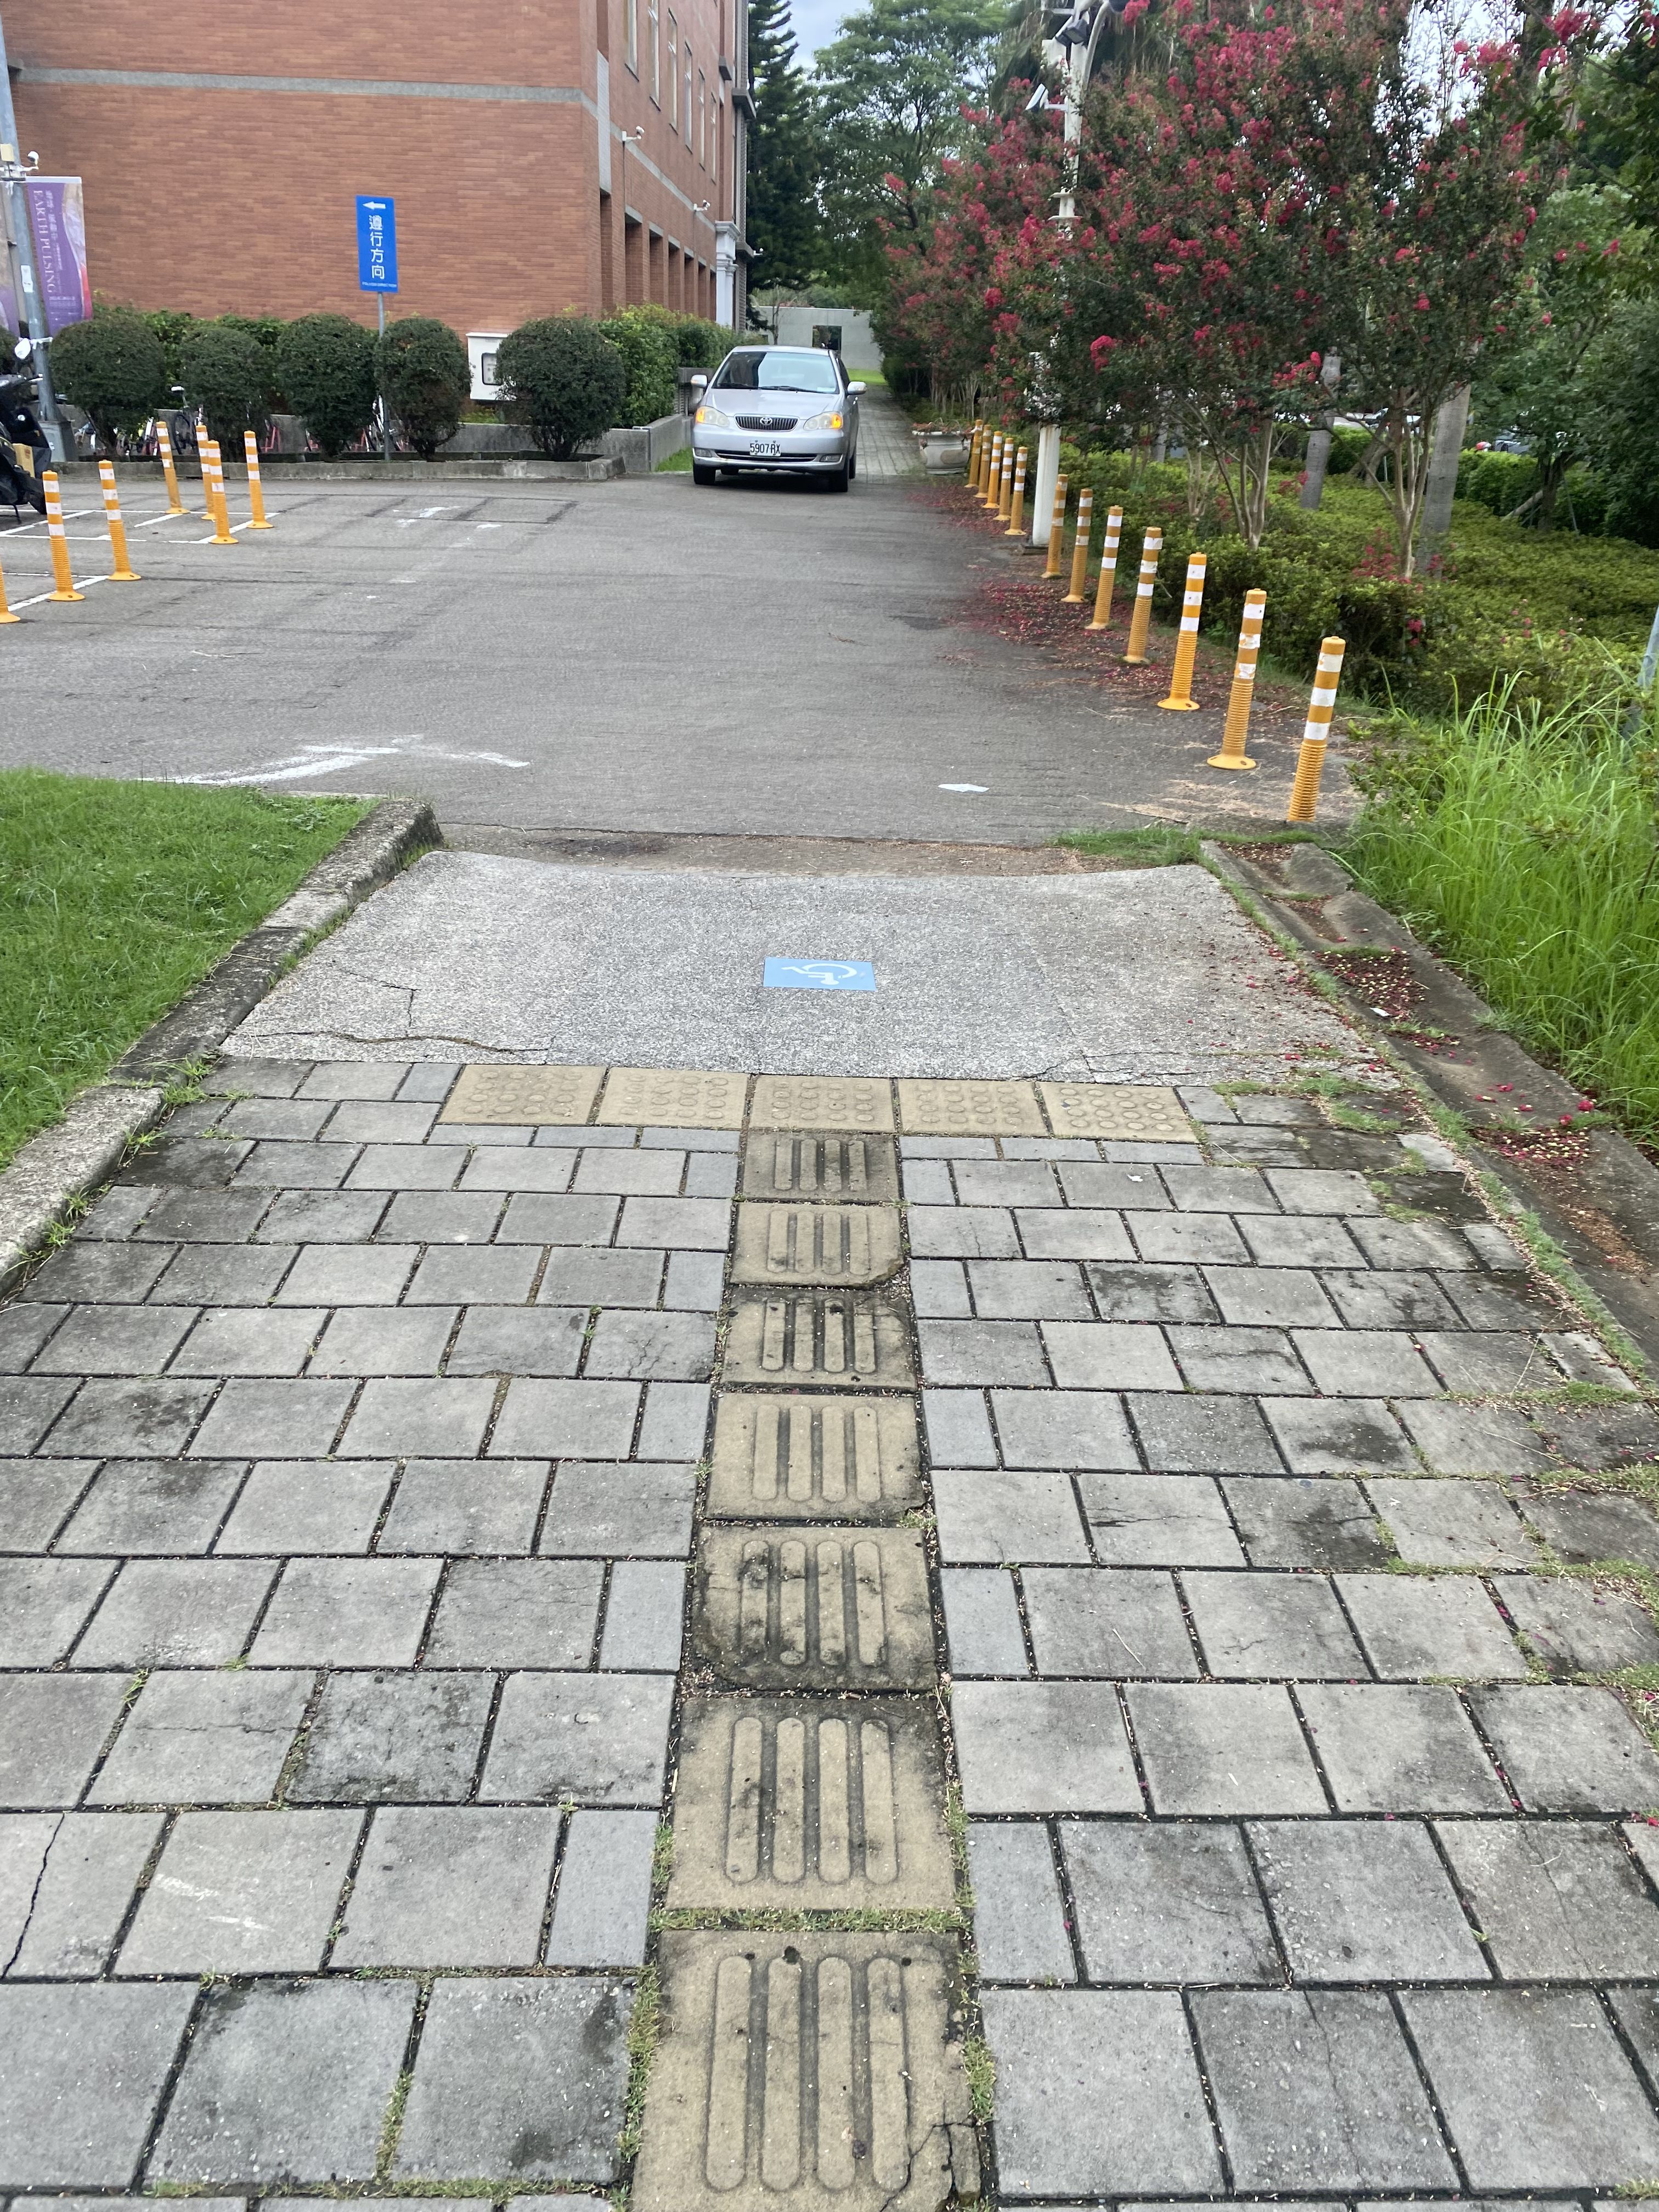0: (12, 841, 1659, 2212)
sidewalk: (362, 350, 1277, 1130)
